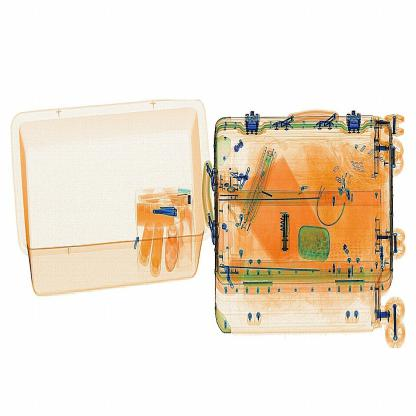scissors: (277, 210, 293, 252)
